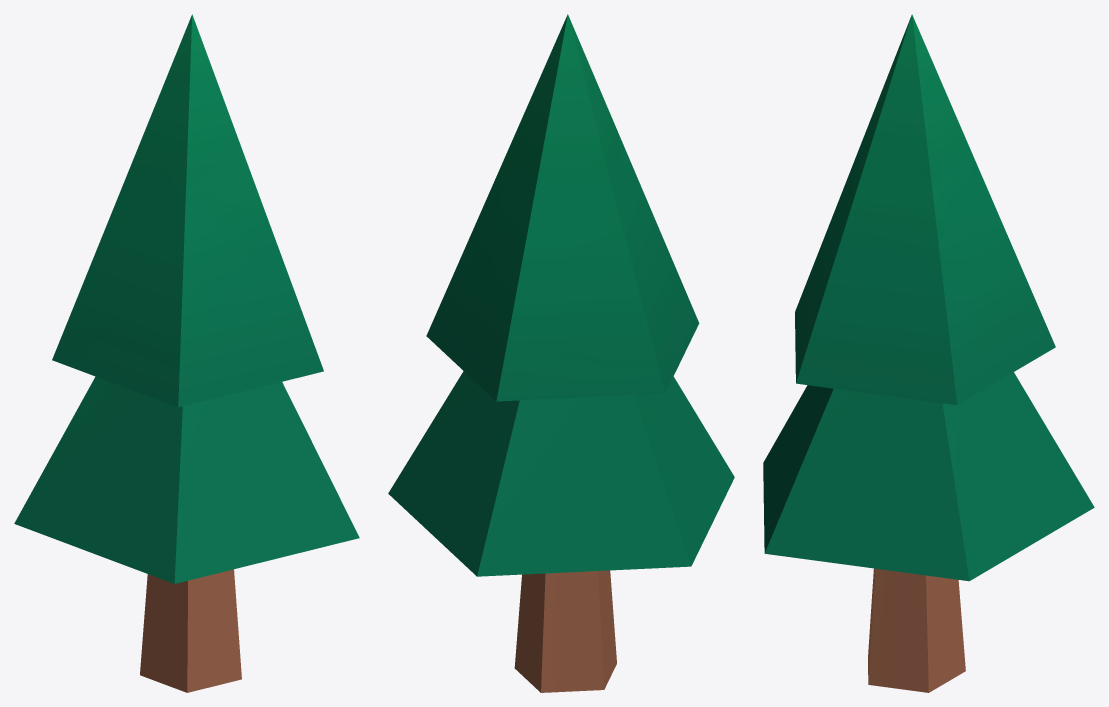
File: tree.glb
The picture shows the model from 3 angles, left to right: view 1: azimuth 30°, elevation 25°; view 2: azimuth 150°, elevation 25°; view 3: azimuth 270°, elevation 25°; orthographic projection.
Visible parts, largest first — view 1: tree_single_A; view 2: tree_single_A; view 3: tree_single_A.
Part boxes in pixels (x1=…): tree_single_A: x1=14, y1=14, x2=359, y2=692; tree_single_A: x1=388, y1=14, x2=734, y2=692; tree_single_A: x1=763, y1=14, x2=1094, y2=692.
Bounding box in the file's own units: 0.5739 × 1.2 × 0.547.
Materials: 1 (1 with a texture image).
